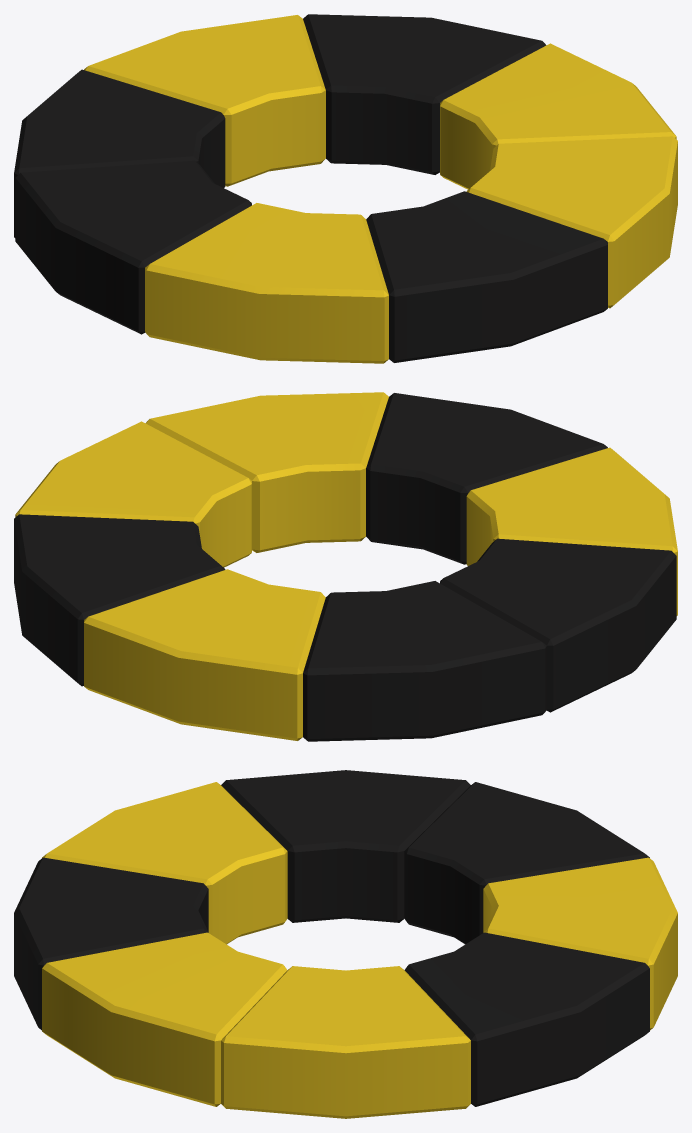
3 renders of one model, top to bottom at view 1: azimuth 30°, elevation 25°; view 2: azimuth 150°, elevation 25°; view 3: azimuth 270°, elevation 25°, orthographic.
Visible parts, largest first — view 1: Black_platform 4.003, Yellow_platform 1.003, Yellow_platform 4.003, Black_platform 1.003, Yellow_platform 3.003, Black_platform 2.003, Yellow_platform 2.003, Black_platform 3.003; view 2: Black_platform 3.003, Yellow_platform 3.003, Yellow_platform 4.003, Black_platform 2.003, Yellow_platform 1.003, Black_platform 1.003, Yellow_platform 2.003, Black_platform 4.003; view 3: Yellow_platform 2.003, Black_platform 2.003, Black_platform 1.003, Yellow_platform 4.003, Black_platform 4.003, Black_platform 3.003, Yellow_platform 1.003, Yellow_platform 3.003.
Boxes of the visible parts, left/top/right/bottom form: Black_platform 4.003: left=145, top=203, right=388, bottom=363; Yellow_platform 1.003: left=366, top=191, right=607, bottom=362; Yellow_platform 4.003: left=15, top=160, right=251, bottom=334; Black_platform 1.003: left=303, top=14, right=546, bottom=174; Yellow_platform 3.003: left=84, top=15, right=325, bottom=186; Black_platform 2.003: left=466, top=136, right=677, bottom=308; Yellow_platform 2.003: left=440, top=43, right=676, bottom=189; Black_platform 3.003: left=14, top=69, right=225, bottom=237; Black_platform 3.003: left=303, top=581, right=546, bottom=741; Yellow_platform 3.003: left=84, top=569, right=325, bottom=740; Yellow_platform 4.003: left=440, top=538, right=676, bottom=712; Black_platform 2.003: left=145, top=392, right=388, bottom=552; Yellow_platform 1.003: left=366, top=393, right=607, bottom=564; Black_platform 1.003: left=14, top=514, right=225, bottom=686; Yellow_platform 2.003: left=15, top=421, right=251, bottom=567; Black_platform 4.003: left=466, top=447, right=677, bottom=615; Yellow_platform 2.003: left=221, top=966, right=470, bottom=1118; Black_platform 2.003: left=42, top=932, right=287, bottom=1106; Black_platform 1.003: left=404, top=932, right=649, bottom=1106; Yellow_platform 4.003: left=221, top=770, right=470, bottom=922; Black_platform 4.003: left=42, top=782, right=287, bottom=944; Black_platform 3.003: left=404, top=782, right=649, bottom=944; Yellow_platform 1.003: left=14, top=857, right=208, bottom=1030; Yellow_platform 3.003: left=483, top=857, right=677, bottom=1030.
Size of the model in its own units: 1287 by 1287 by 165.
